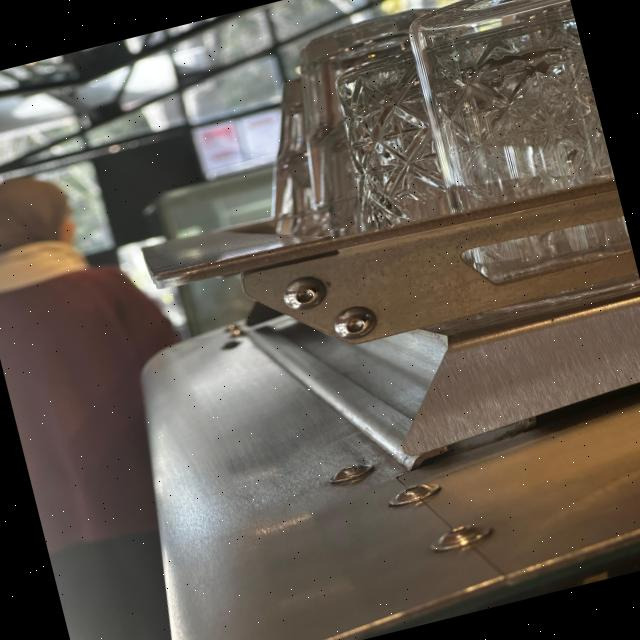Hex Socket Allen: (325, 300, 382, 350), (276, 272, 331, 318)
